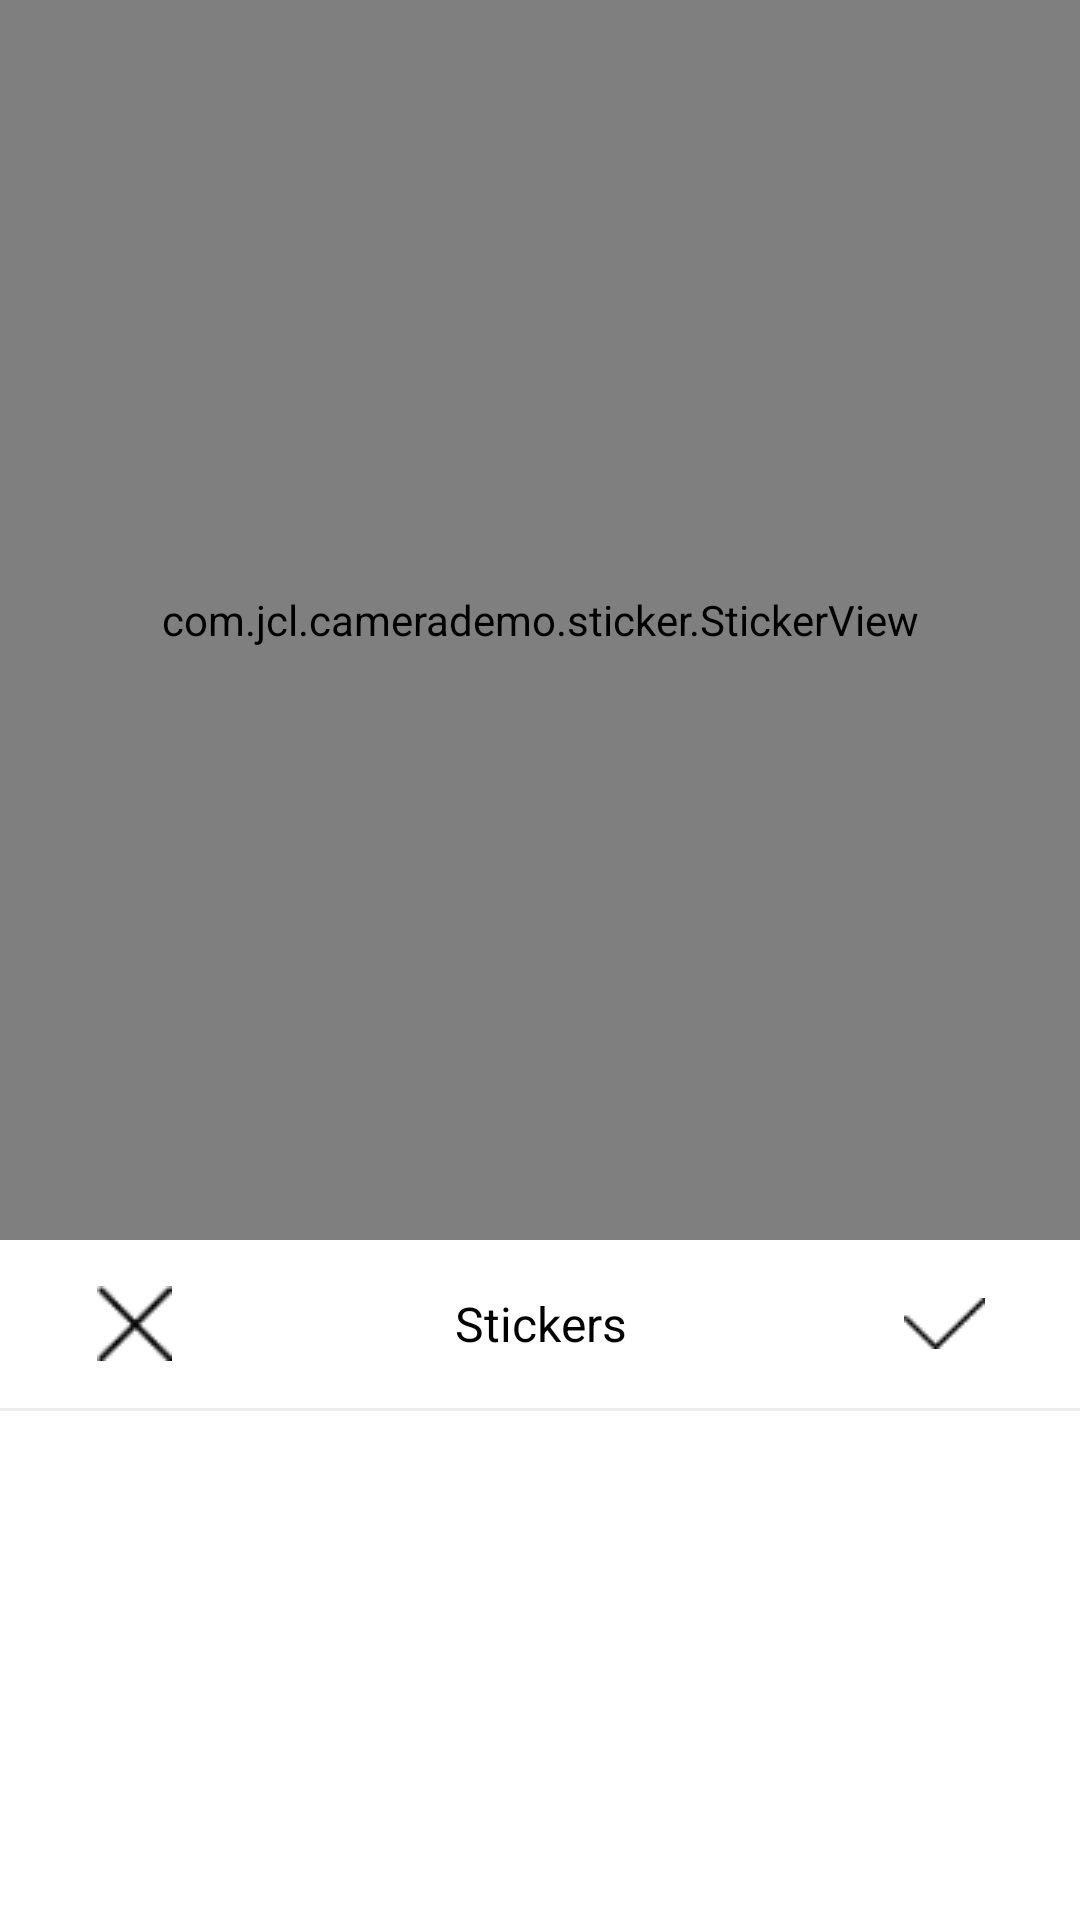

Named icons in this screenshot (1080x1920) and their centers, point (x, y):
cancel: point (134, 1323)
confirm: point (944, 1323)
